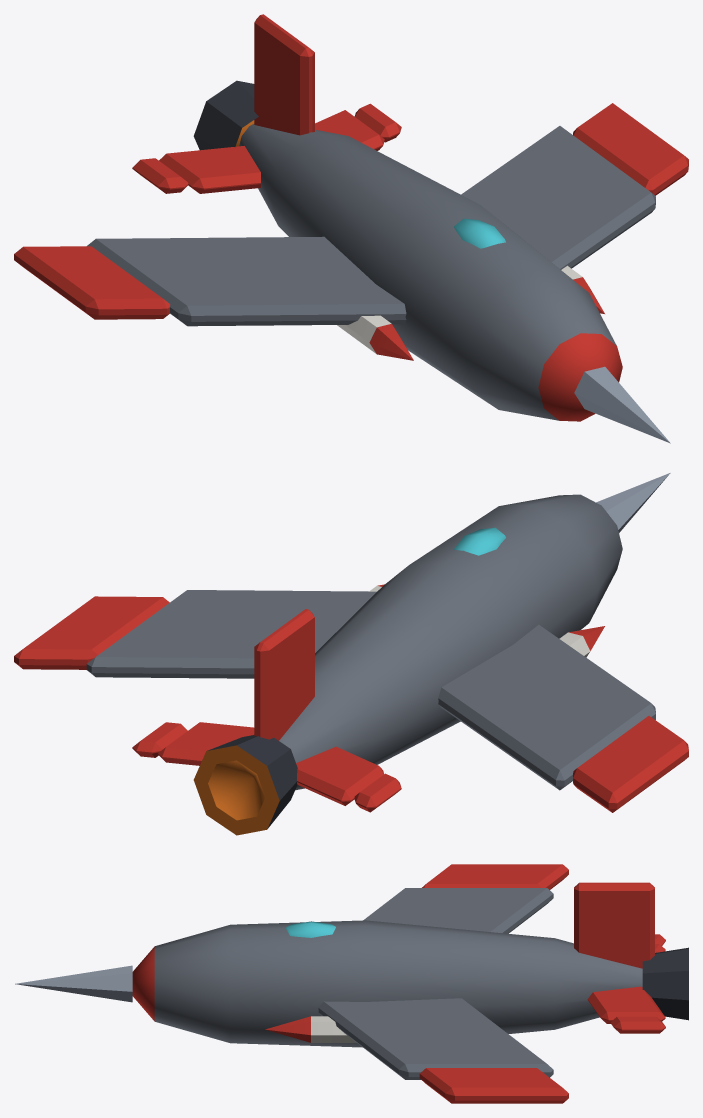
3 views of the same model, one above another, from view 1: azimuth 30°, elevation 25°; view 2: azimuth 150°, elevation 25°; view 3: azimuth 270°, elevation 25° (orthographic). The views are drawn at different scales.
Visible parts, largest first — view 1: as_0_base; view 2: as_0_base; view 3: as_0_base.
Boxes of the visible parts, bbox=[...] form: as_0_base: bbox=[14, 14, 688, 443]; as_0_base: bbox=[14, 473, 688, 835]; as_0_base: bbox=[15, 864, 688, 1103].
Bounding box in the file's own units: 1.05 × 0.3391 × 1.31.
